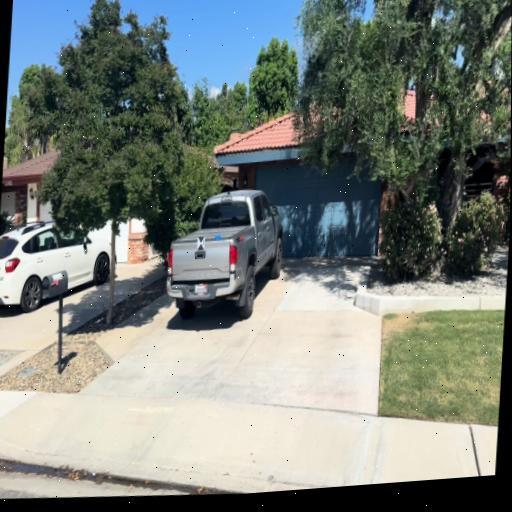target1: (198, 236, 206, 250)
